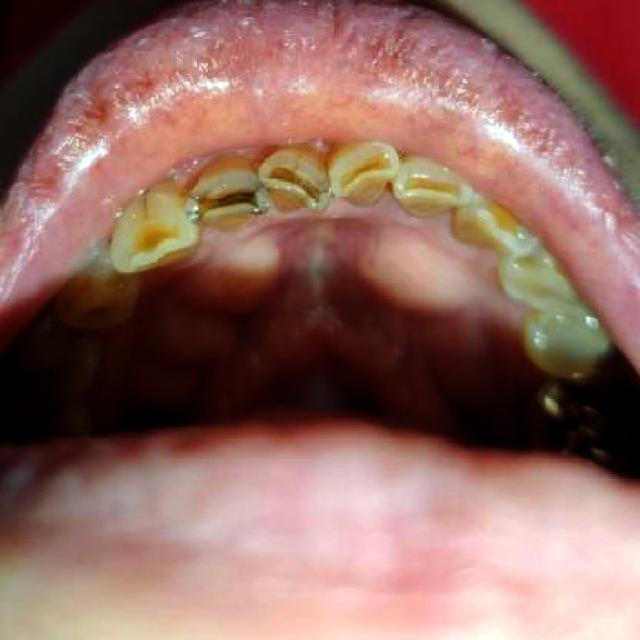Plaque: (135, 190, 155, 217)
